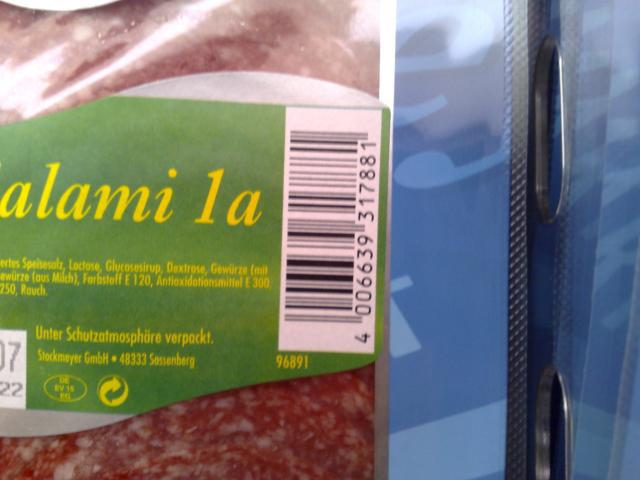Barkod: (280, 128, 361, 322)
